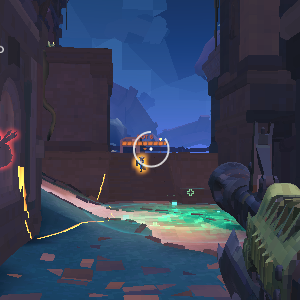model: (132, 154, 150, 176)
